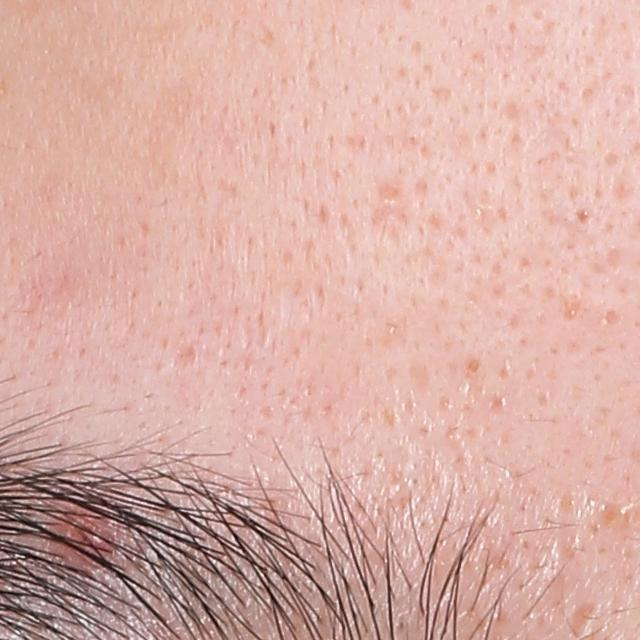atrophic_scar: (362, 177, 417, 251), (570, 593, 599, 639), (168, 339, 203, 369)
comedo: (464, 354, 486, 378)
papule: (60, 518, 112, 561)
